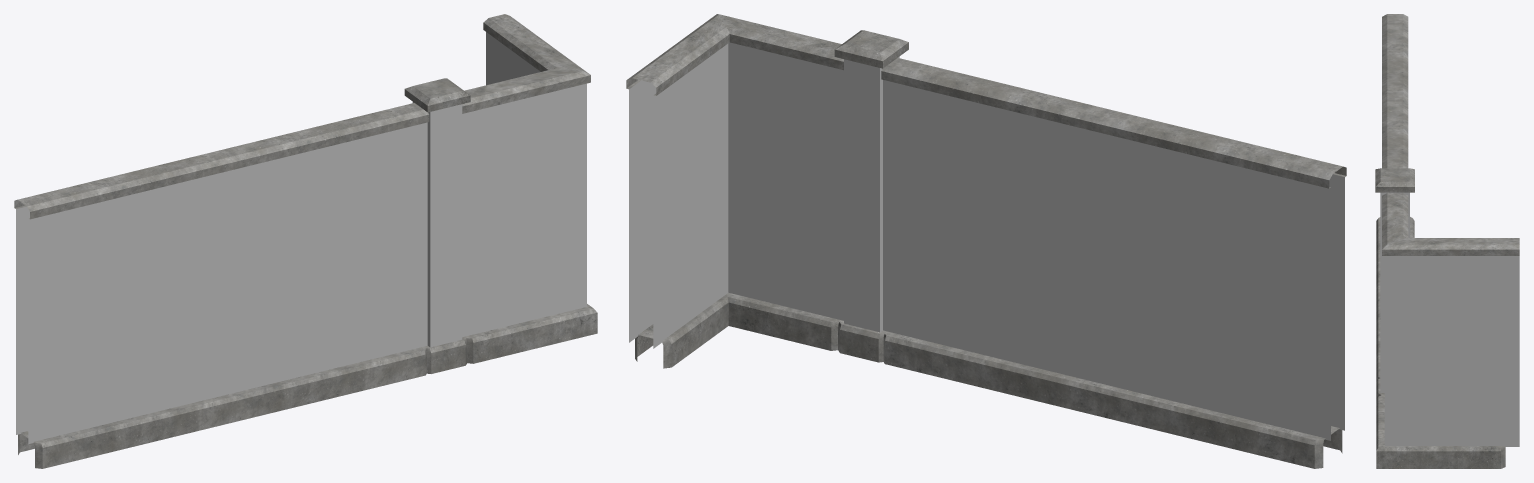
File: Wall_Blocks.fbx
3 views of the same model, side by side, from view 1: azimuth 30°, elevation 25°; view 2: azimuth 150°, elevation 25°; view 3: azimuth 270°, elevation 25° (orthographic). The views are drawn at different scales.
Visible parts, largest first — view 1: Wall, Wall_Corner, Foundation_Wall, Wall_Post, Foundation_Corner, Foundation_Post; view 2: Wall, Wall_Corner, Foundation_Wall, Wall_Post, Foundation_Corner, Foundation_Post; view 3: Wall_Corner, Wall, Foundation_Corner, Wall_Post, Foundation_Wall.
Boxes of the visible parts, <box> form: Wall: <box>14,103,429,444</box>; Wall_Corner: <box>462,14,590,336</box>; Foundation_Wall: <box>18,347,426,468</box>; Wall_Post: <box>404,78,470,347</box>; Foundation_Corner: <box>466,304,597,363</box>; Foundation_Post: <box>422,336,467,373</box>; Wall: <box>881,58,1346,440</box>; Wall_Corner: <box>626,14,843,348</box>; Foundation_Wall: <box>883,331,1342,468</box>; Wall_Post: <box>834,30,908,332</box>; Foundation_Corner: <box>635,292,840,368</box>; Foundation_Post: <box>838,320,889,362</box>; Wall_Corner: <box>1382,193,1519,446</box>; Wall: <box>1382,14,1408,168</box>; Foundation_Corner: <box>1376,395,1505,468</box>; Wall_Post: <box>1375,168,1414,392</box>; Foundation_Wall: <box>1376,217,1414,381</box>.
Size of the model in its own units: 7.54 by 3.49 by 1.96.
